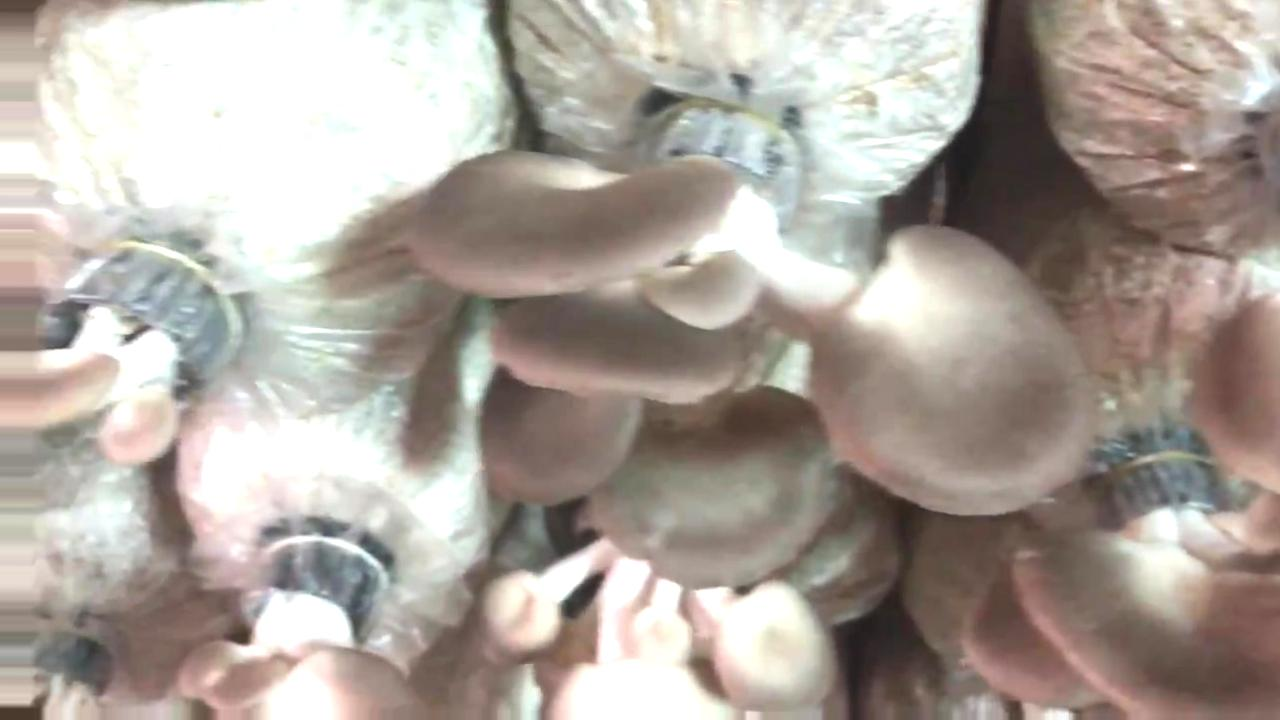nam: (407, 100, 1092, 584), (967, 452, 1279, 720), (482, 539, 834, 720), (1, 243, 246, 463), (180, 543, 410, 720), (33, 634, 116, 720)
